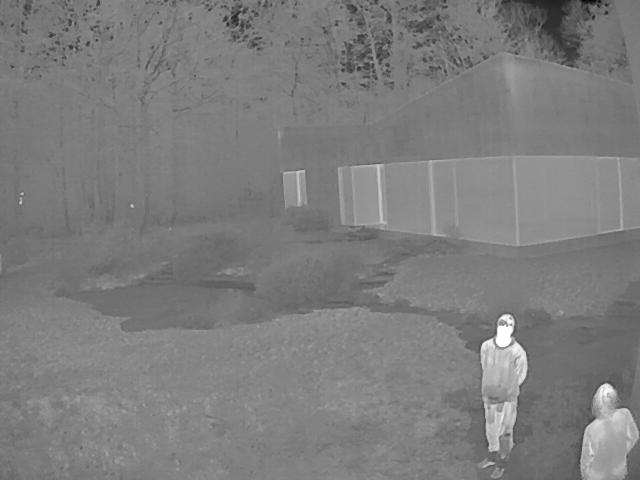person: (478, 312, 530, 478), (582, 383, 640, 479)
